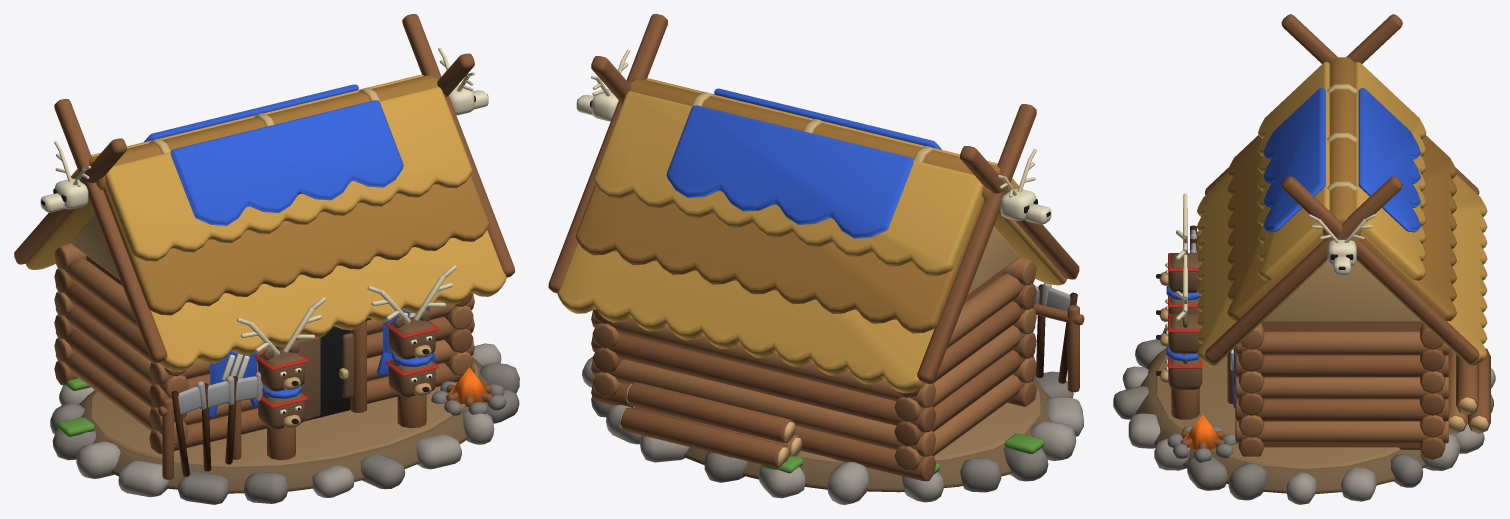
File: Barracks.glb
3 renders of one model, left to right at view 1: azimuth 30°, elevation 25°; view 2: azimuth 150°, elevation 25°; view 3: azimuth 270°, elevation 25°, orthographic. The views are drawn at different scales.
Visible parts, largest first — view 1: Barracks; view 2: Barracks; view 3: Barracks.
Part boxes in pixels (x1,y1,x2,y2): Barracks: (14, 14, 519, 504); Barracks: (548, 14, 1084, 504); Barracks: (1113, 14, 1495, 504).
Size of the model in its own units: 4.22 by 3 by 3.3.
